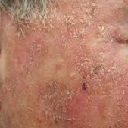Actinic: (38, 82, 72, 124), (71, 56, 108, 94)
